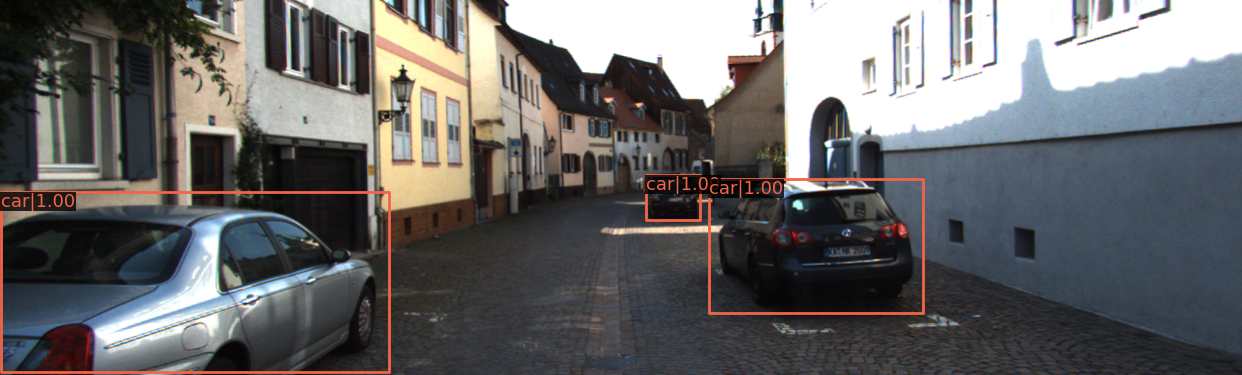car: (1, 196, 386, 375), (715, 176, 916, 314), (649, 179, 697, 219)
